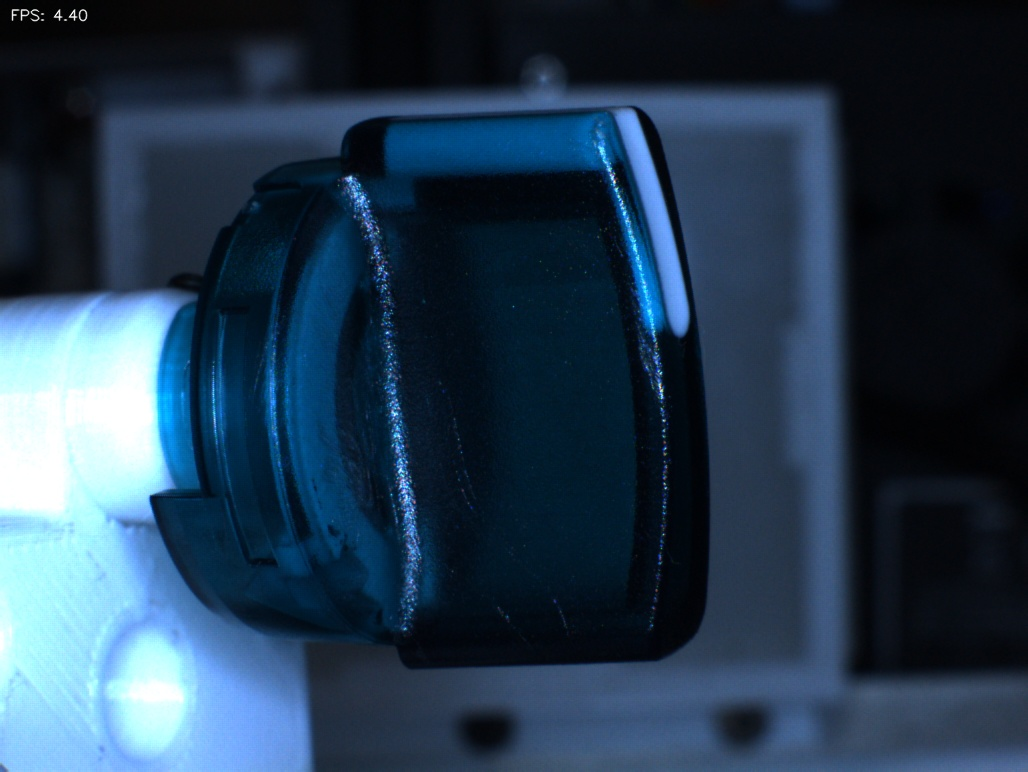Givrage: (413, 363, 580, 651), (304, 383, 386, 507)
